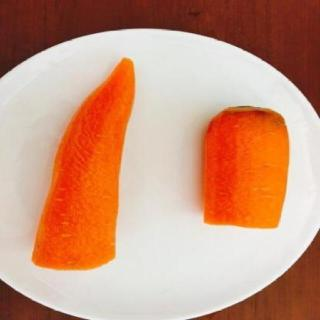carrot: (27, 55, 145, 271), (197, 102, 293, 235)
